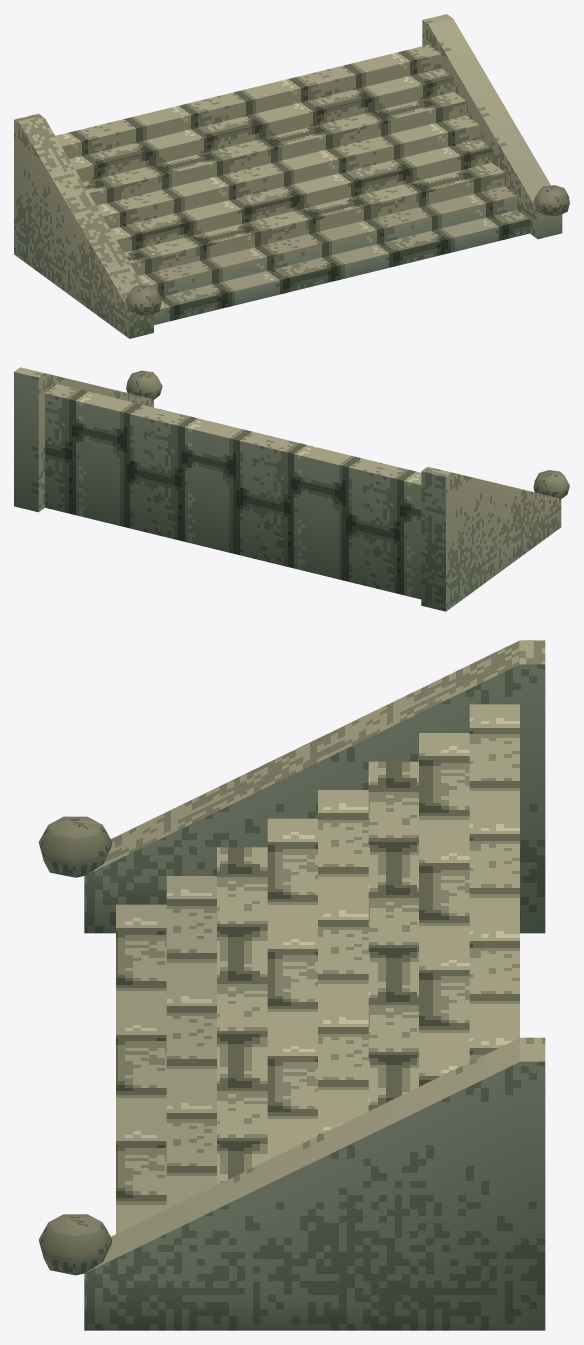
The model's file is ruin.stairs__wide.glb.
3 renders of one model, top to bottom at view 1: azimuth 30°, elevation 25°; view 2: azimuth 150°, elevation 25°; view 3: azimuth 270°, elevation 25°, orthographic. The views are drawn at different scales.
Visible parts, largest first — view 1: kit_flight, kit_balustrades, kit_terminals; view 2: kit_flight, kit_balustrades, kit_terminals; view 3: kit_flight, kit_balustrades, kit_terminals.
Part boxes in pixels (x1,y1,x2,y2): kit_flight: [55, 45, 529, 324]; kit_balustrades: [14, 14, 562, 338]; kit_terminals: [125, 185, 569, 315]; kit_flight: [45, 384, 421, 599]; kit_balustrades: [14, 367, 561, 611]; kit_terminals: [126, 370, 569, 499]; kit_flight: [116, 704, 519, 1233]; kit_balustrades: [84, 640, 545, 1330]; kit_terminals: [38, 816, 112, 1275].
Size of the model in its own units: 8.02 by 2.35 by 4.01.
Materials: 3 (3 with a texture image).
